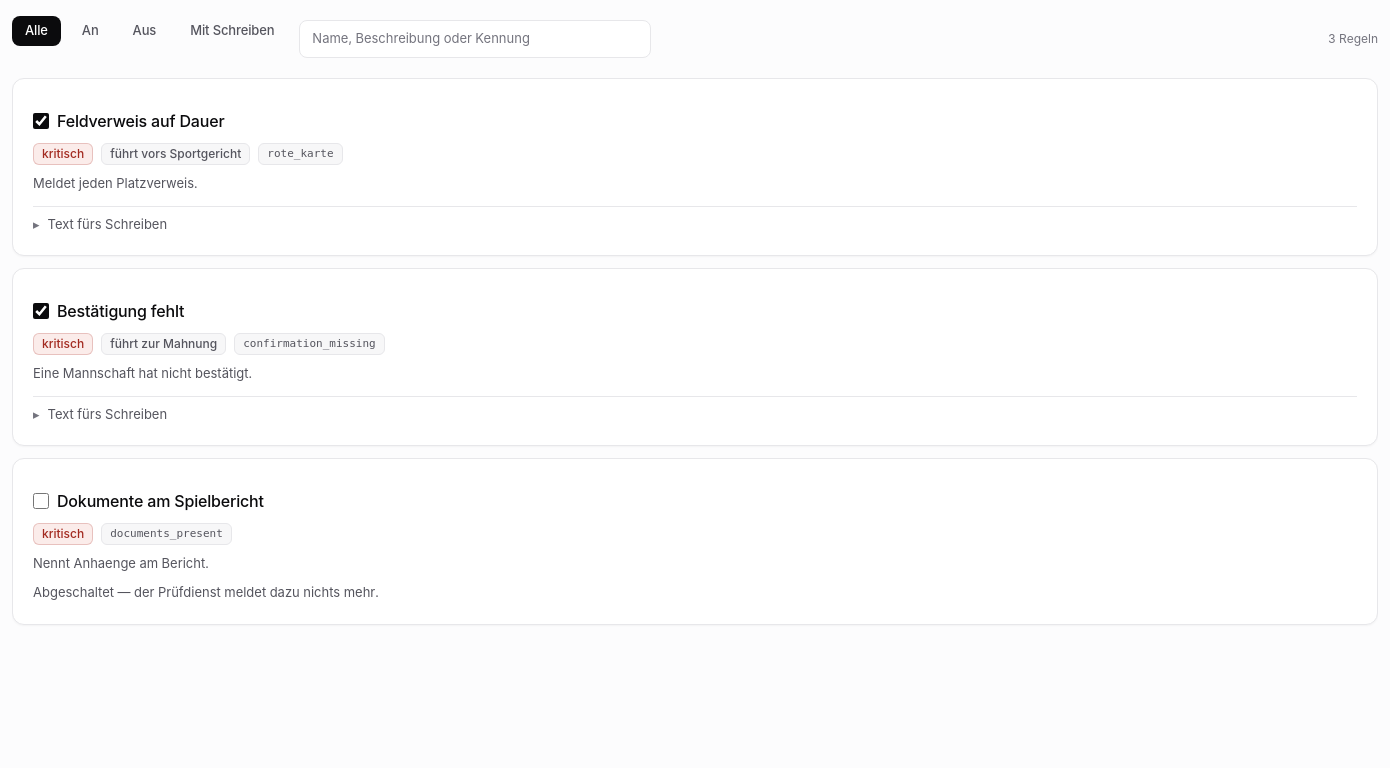
Test case: Einschränken › sagt es, wenn die Einschränkung alles wegnimmt
The width and height of the screenshot is (1390, 768).
In the search field named "Suchen": [475, 39] box [299,20,651,58], type "gibtesnicht"
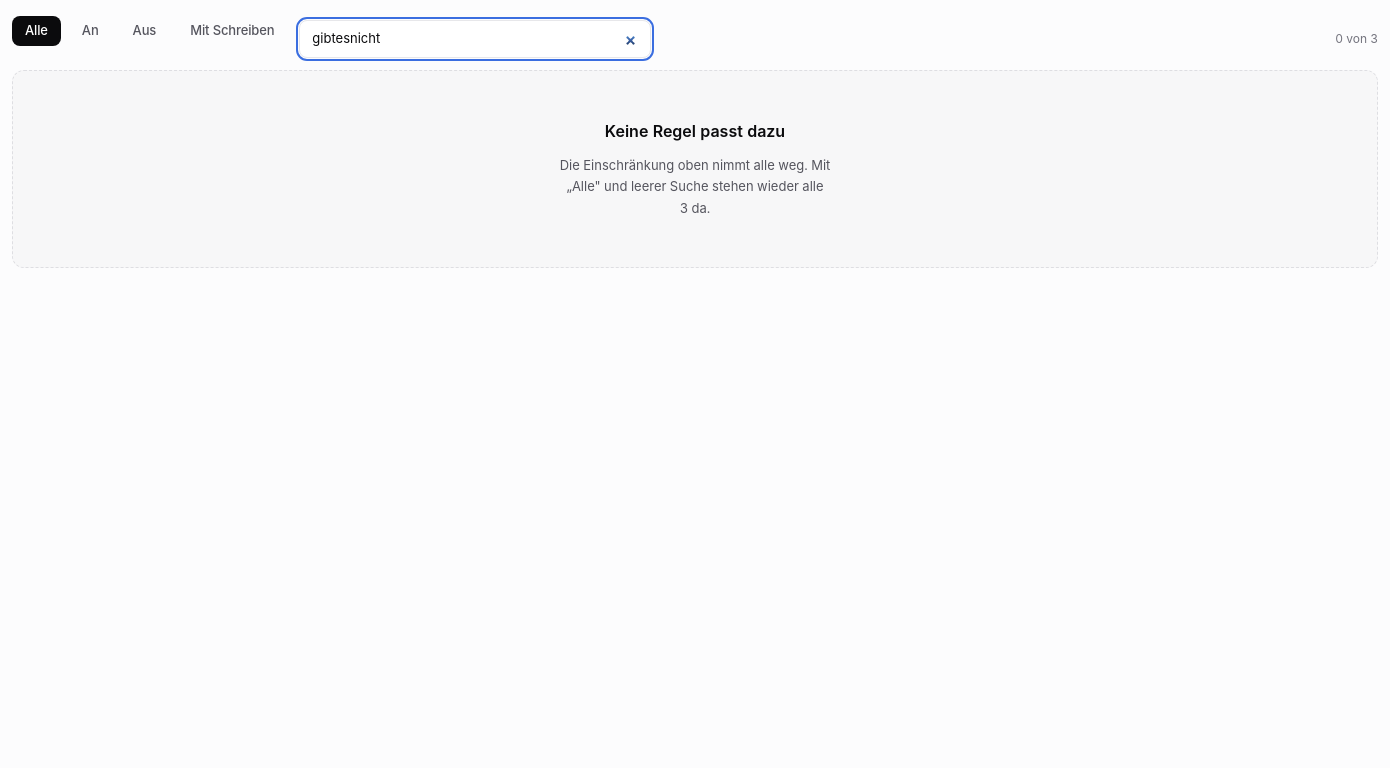
Now the text "Keine Regel passt dazu" is shown, box [605,119,785,143]
